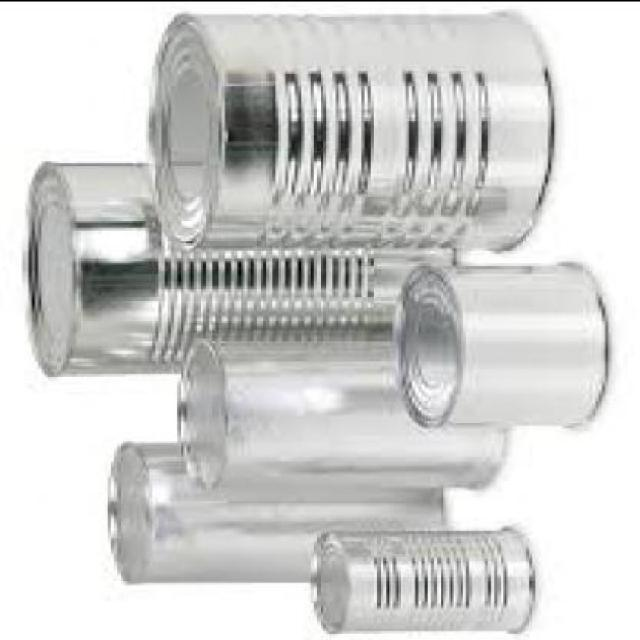METAL: (136, 13, 549, 255), (19, 162, 453, 381), (175, 339, 510, 499), (101, 445, 452, 583), (393, 260, 605, 429), (308, 529, 529, 637)
